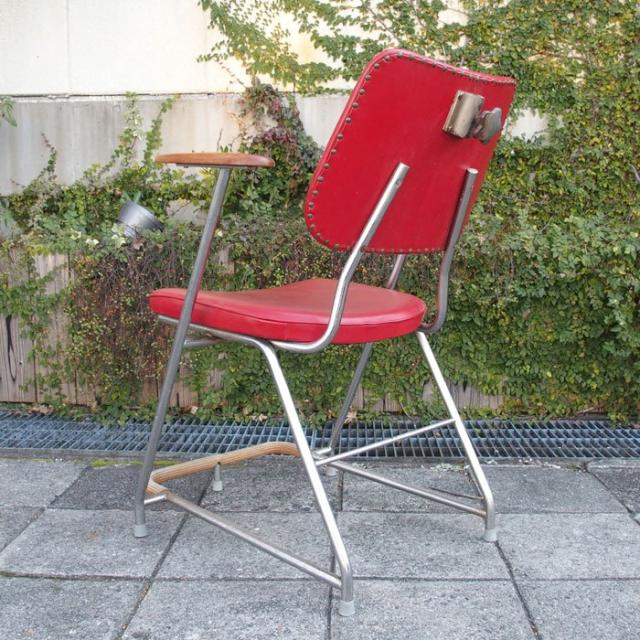chair vintage: (126, 37, 508, 620)
